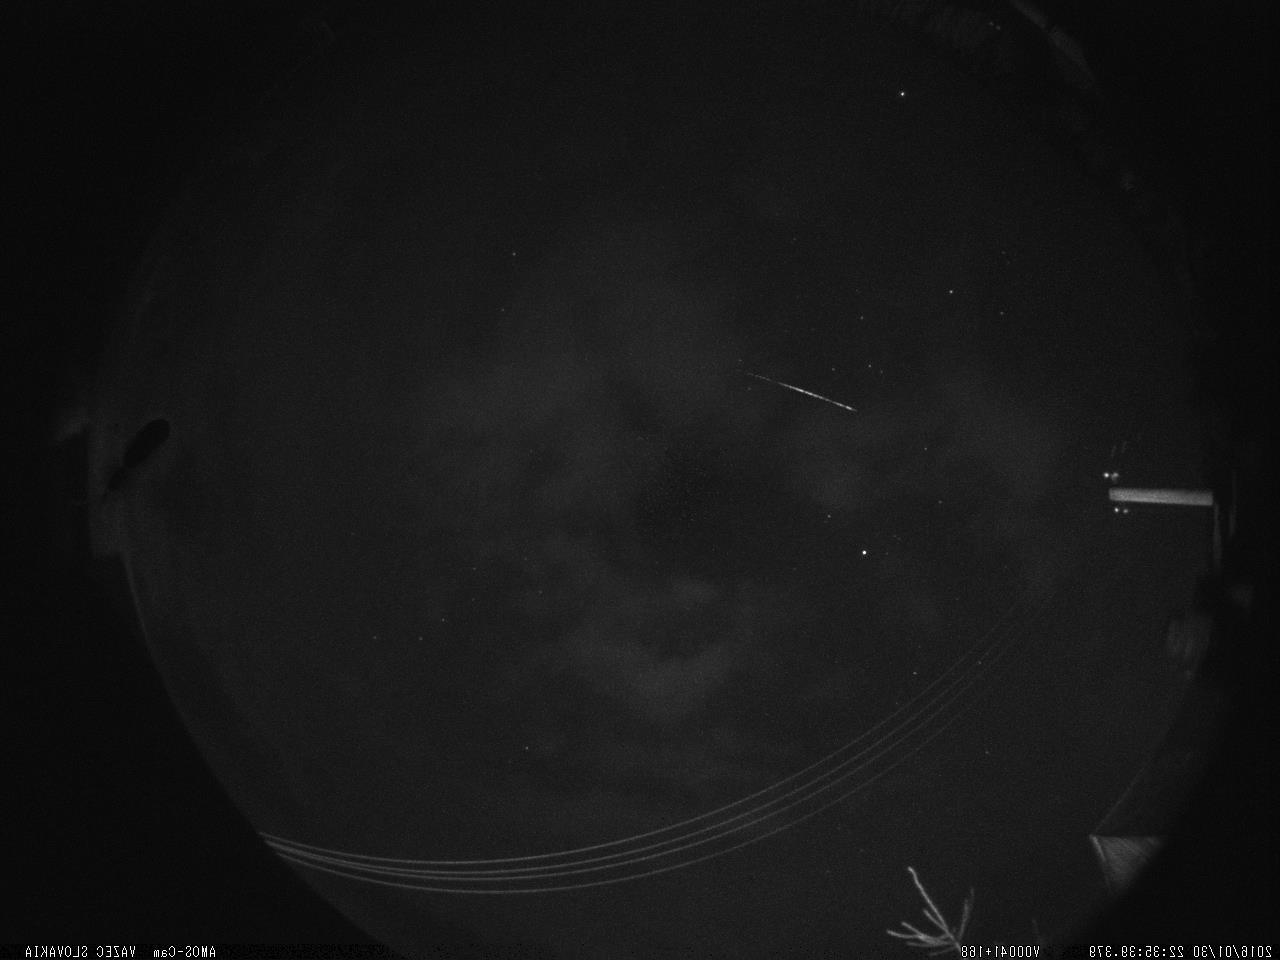meteor: (713, 357, 862, 421)
